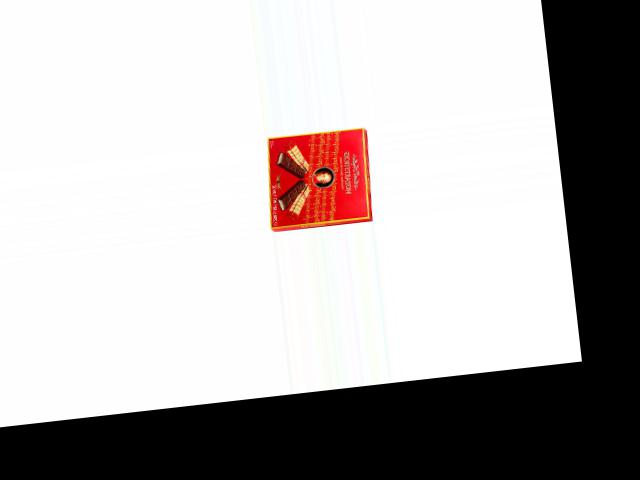chocolate: (257, 124, 375, 233)
